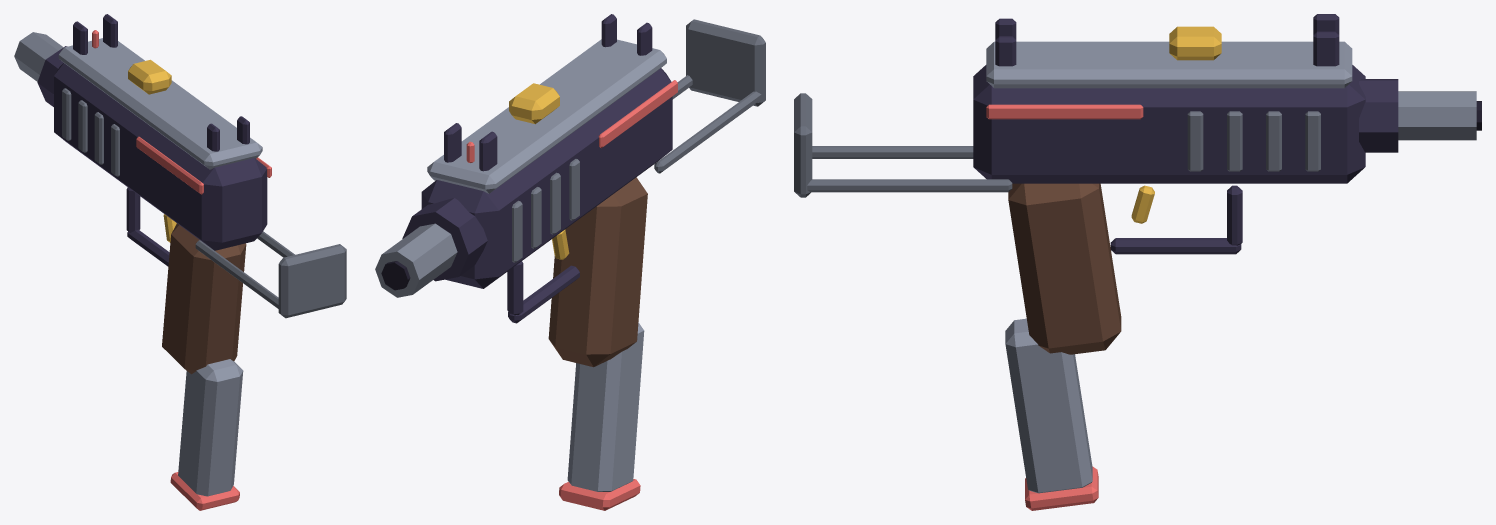
Rendered from uzi.glb.
The picture shows the model from 3 angles, left to right: view 1: azimuth 30°, elevation 25°; view 2: azimuth 150°, elevation 25°; view 3: azimuth 270°, elevation 25°; orthographic projection. The views are drawn at different scales.
Parts seen in each view (by area): view 1: _MeshInstance3D_816, Grip, _MeshInstance3D_817, _MeshInstance3D_844, _MeshInstance3D_843, Barrel, _MeshInstance3D_836, _MeshInstance3D_841, _MeshInstance3D_845, _MeshInstance3D_822, _MeshInstance3D_829, _MeshInstance3D_838 (+7 smaller); view 2: _MeshInstance3D_816, Grip, _MeshInstance3D_817, _MeshInstance3D_844, _MeshInstance3D_843, Barrel, _MeshInstance3D_829, _MeshInstance3D_841, _MeshInstance3D_836, _MeshInstance3D_845, _MeshInstance3D_822, _MeshInstance3D_838 (+10 smaller); view 3: _MeshInstance3D_816, Grip, _MeshInstance3D_817, _MeshInstance3D_844, Barrel, _MeshInstance3D_842, _MeshInstance3D_829, _MeshInstance3D_827, _MeshInstance3D_841, _MeshInstance3D_838, _MeshInstance3D_843, _MeshInstance3D_836 (+7 smaller).
Part boxes in pixels (<box>): _MeshInstance3D_816: <box>54,63,267,250</box>; Grip: <box>162,223,246,374</box>; _MeshInstance3D_817: <box>58,38,262,169</box>; _MeshInstance3D_844: <box>178,359,243,496</box>; _MeshInstance3D_843: <box>278,244,346,318</box>; Barrel: <box>14,32,63,81</box>; _MeshInstance3D_836: <box>128,59,171,94</box>; _MeshInstance3D_841: <box>195,240,278,308</box>; _MeshInstance3D_845: <box>170,472,239,510</box>; _MeshInstance3D_822: <box>136,136,203,194</box>; _MeshInstance3D_829: <box>37,46,67,106</box>; _MeshInstance3D_838: <box>127,229,169,266</box>; _MeshInstance3D_816: <box>421,68,672,288</box>; Grip: <box>548,177,647,367</box>; _MeshInstance3D_817: <box>427,39,666,193</box>; _MeshInstance3D_844: <box>567,322,644,491</box>; _MeshInstance3D_843: <box>686,19,765,106</box>; Barrel: <box>375,223,457,297</box>; _MeshInstance3D_829: <box>402,198,487,281</box>; _MeshInstance3D_841: <box>654,91,761,173</box>; _MeshInstance3D_836: <box>509,83,559,124</box>; _MeshInstance3D_845: <box>559,479,640,510</box>; _MeshInstance3D_822: <box>598,80,677,148</box>; _MeshInstance3D_838: <box>508,265,579,323</box>; _MeshInstance3D_816: <box>973,65,1365,183</box>; Grip: <box>1008,183,1121,354</box>; _MeshInstance3D_817: <box>986,41,1352,88</box>; _MeshInstance3D_844: <box>1005,318,1092,493</box>; Barrel: <box>1398,91,1476,140</box>; _MeshInstance3D_842: <box>807,179,1012,192</box>; _MeshInstance3D_829: <box>1359,79,1398,152</box>; _MeshInstance3D_827: <box>986,104,1143,119</box>; _MeshInstance3D_841: <box>812,146,973,158</box>; _MeshInstance3D_838: <box>1110,238,1241,254</box>; _MeshInstance3D_843: <box>794,93,812,197</box>; _MeshInstance3D_836: <box>1169,26,1221,60</box>.
Bounding box in the file's own units: 0.078 × 0.4026 × 0.526.
